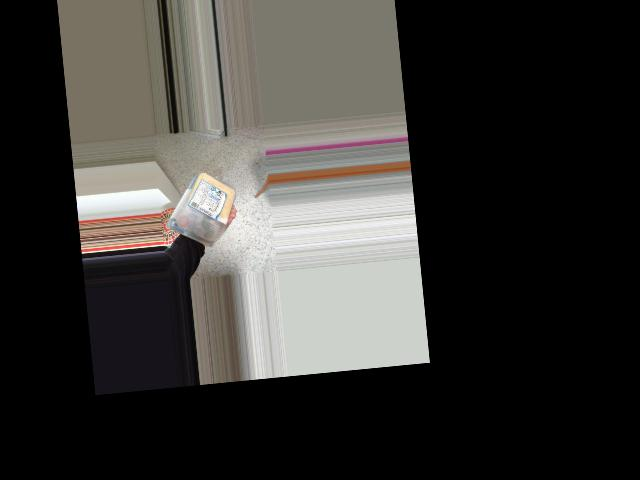cheese: (189, 168, 232, 237)
